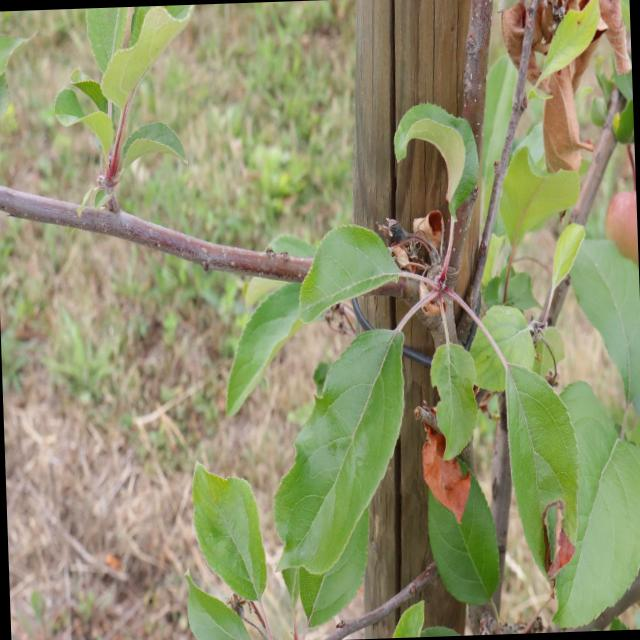-FireBlight-: (504, 0, 631, 182), (419, 393, 480, 516), (386, 208, 452, 286)
